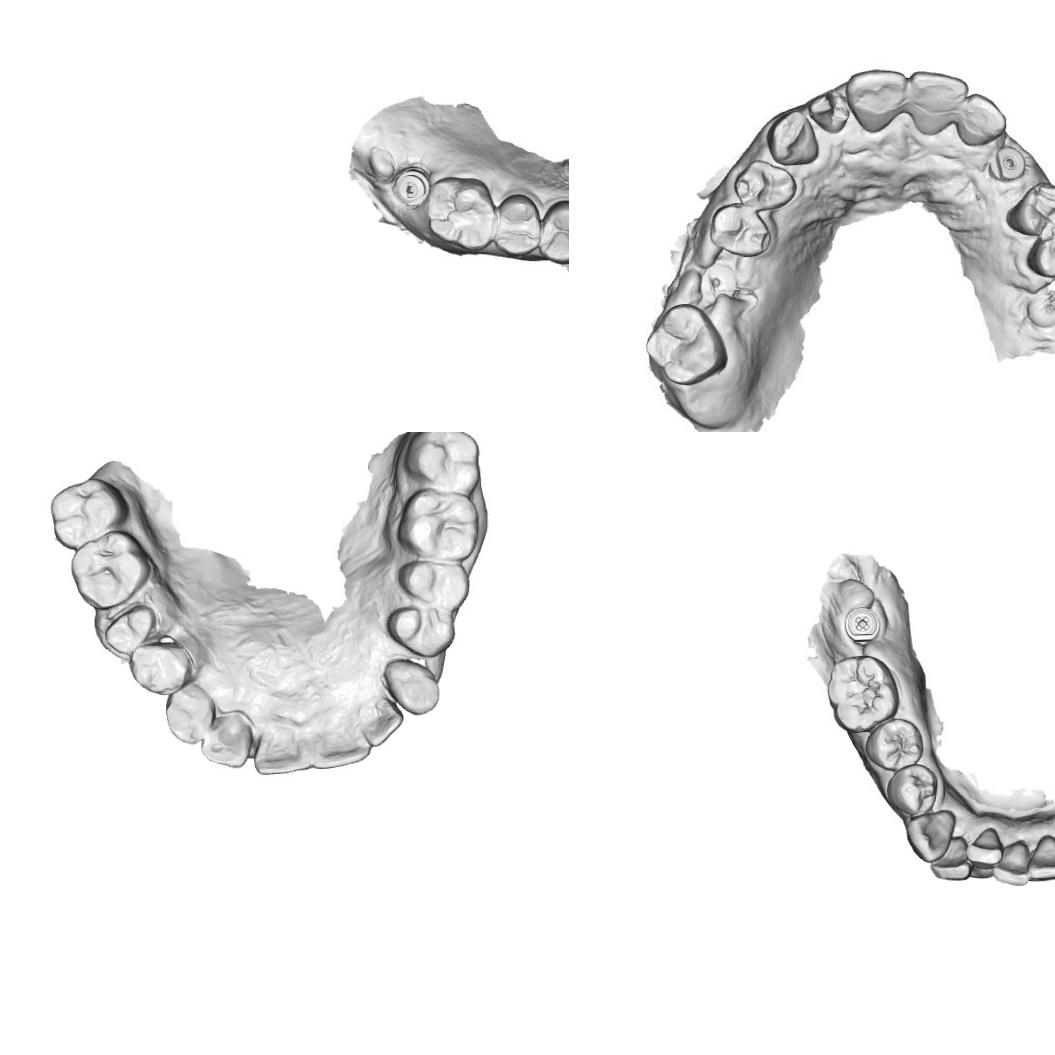canine: (382, 656, 448, 716), (902, 806, 960, 866), (764, 110, 820, 167), (161, 688, 216, 744)
crown: (101, 606, 158, 658)
implant: (698, 260, 737, 302), (991, 144, 1027, 185), (1028, 284, 1055, 327)
implant_minus: (394, 163, 433, 210)
implant_plus: (841, 604, 883, 643)
incisor: (900, 68, 966, 136), (846, 67, 905, 132), (306, 718, 374, 773), (248, 723, 316, 777), (196, 709, 254, 769), (956, 94, 1009, 150), (360, 691, 406, 751), (963, 818, 1013, 870), (989, 834, 1034, 891), (928, 832, 976, 884), (1025, 831, 1055, 883)
molar: (642, 301, 729, 387), (66, 527, 152, 610), (395, 486, 482, 562), (824, 653, 903, 736), (422, 174, 500, 254), (45, 477, 130, 550), (401, 432, 482, 495)
premolar: (384, 600, 458, 660), (395, 554, 470, 612), (863, 714, 928, 774), (127, 638, 193, 696), (492, 190, 544, 260), (883, 762, 942, 819), (708, 206, 770, 257), (735, 158, 796, 207), (1008, 177, 1055, 239), (536, 195, 569, 265), (1024, 225, 1055, 280)
